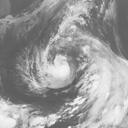cyclone: (42, 55, 73, 89)
